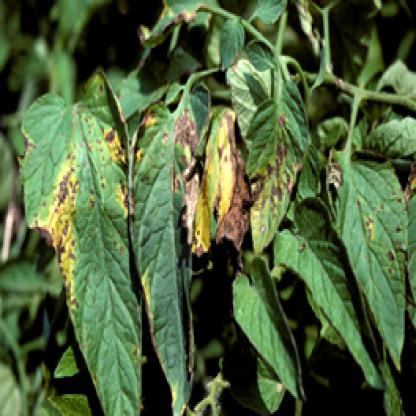tomato leaf bacterial spot: (20, 68, 143, 408), (129, 90, 205, 412), (328, 145, 411, 380), (249, 64, 309, 267)
